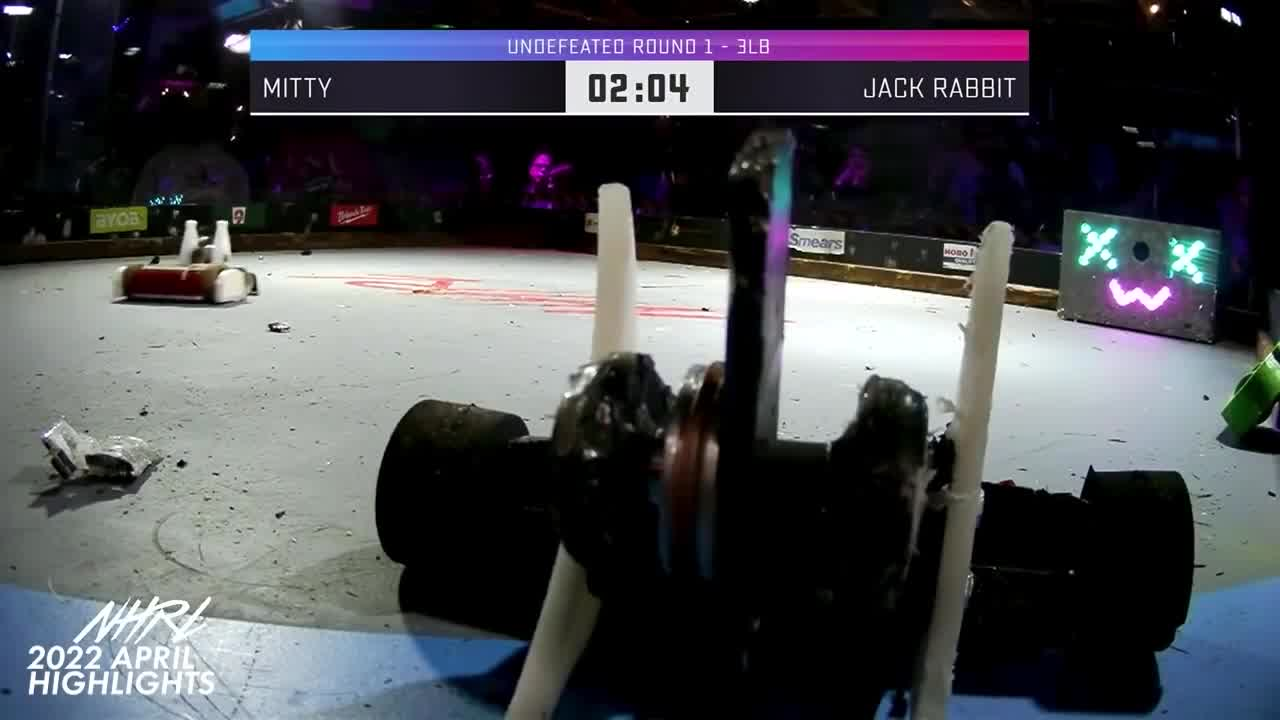combatbot: (373, 128, 1199, 717), (115, 221, 256, 303), (1219, 343, 1280, 435)
debris: (42, 413, 159, 493)
housebot: (1056, 208, 1226, 347)
